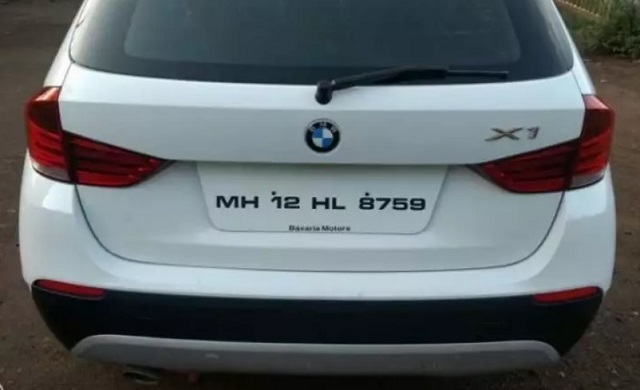licenseplate: (196, 159, 453, 239)
